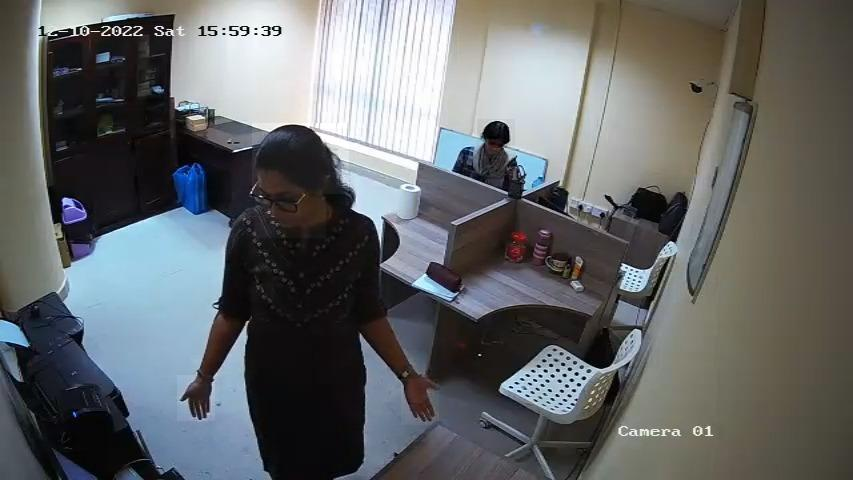no_apron: (177, 375, 215, 421), (401, 379, 439, 425)
no_gloves: (253, 123, 350, 194), (477, 119, 515, 148)
no_hairnet: (255, 191, 326, 238), (482, 143, 505, 159)
